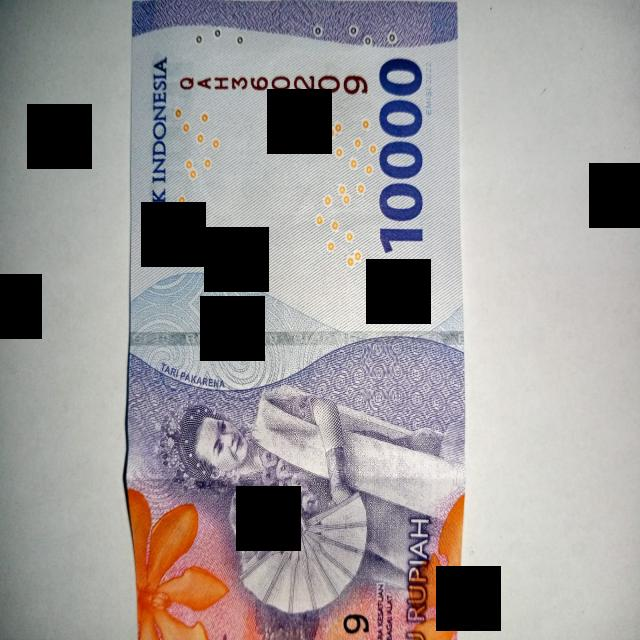sepuluhribu rupiah: (125, 2, 465, 638)
